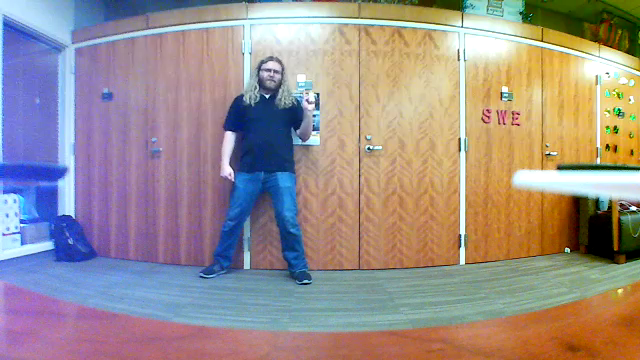up: (298, 81, 321, 117)
